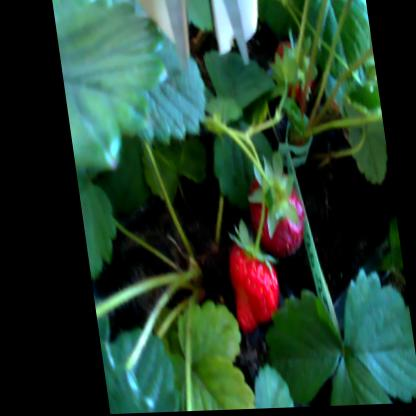ripe: (214, 228, 276, 339), (242, 184, 315, 254)
